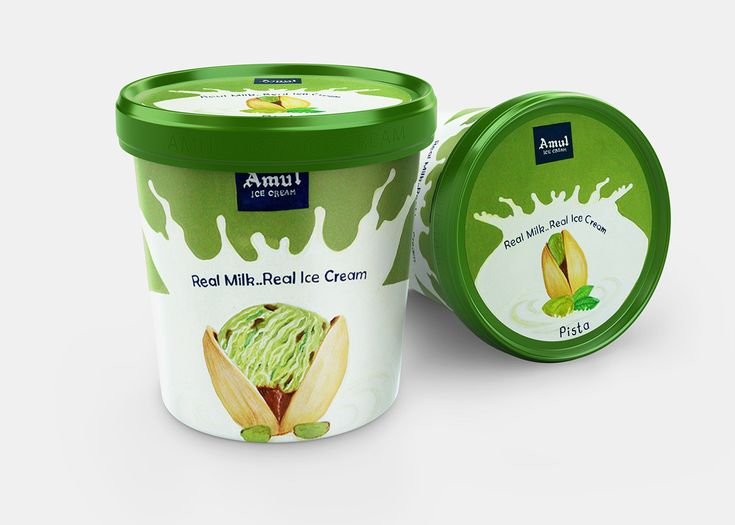Amul: (238, 167, 305, 187), (537, 134, 574, 151)
